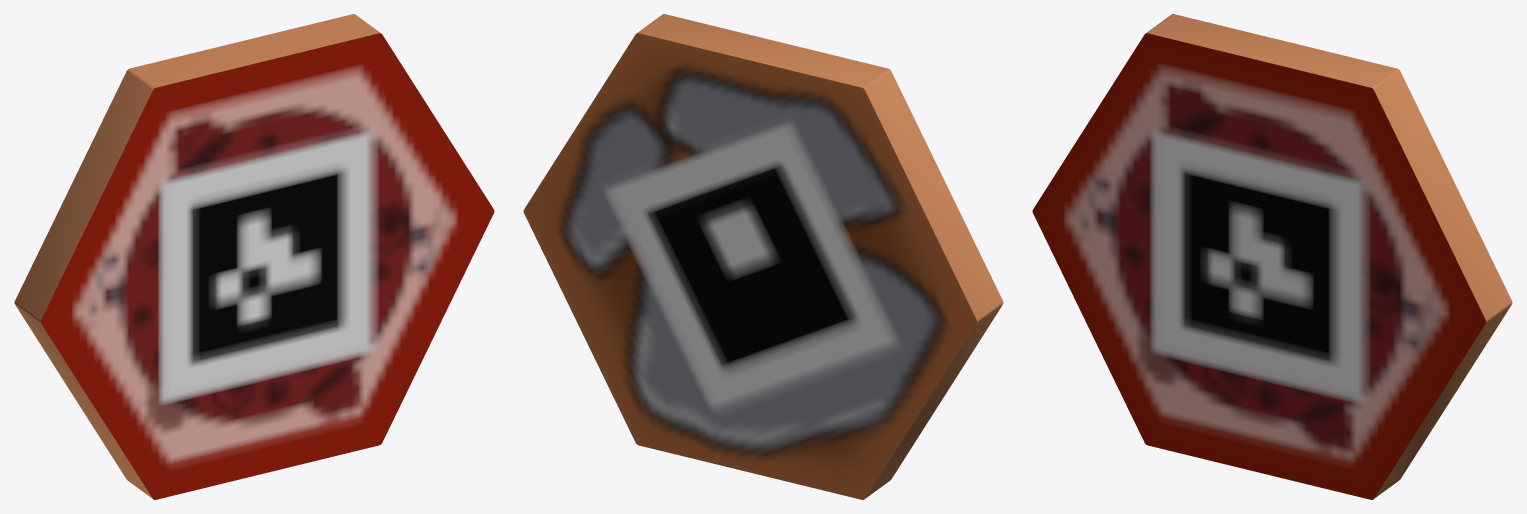
The model's file is hexagon_red.glb.
The picture shows the model from 3 angles, left to right: view 1: azimuth 30°, elevation 25°; view 2: azimuth 150°, elevation 25°; view 3: azimuth 330°, elevation 25°; orthographic projection.
Visible parts, largest first — view 1: Corps1_14__3; view 2: Corps1_14__3; view 3: Corps1_14__3.
Part boxes in pixels (x1,y1,x2,y2): Corps1_14__3: (14, 14, 494, 499); Corps1_14__3: (523, 14, 1003, 499); Corps1_14__3: (1032, 14, 1512, 499).
Size of the model in its own units: 0.1497 by 0.1299 by 0.015.
Materials: 1 (1 with a texture image).
